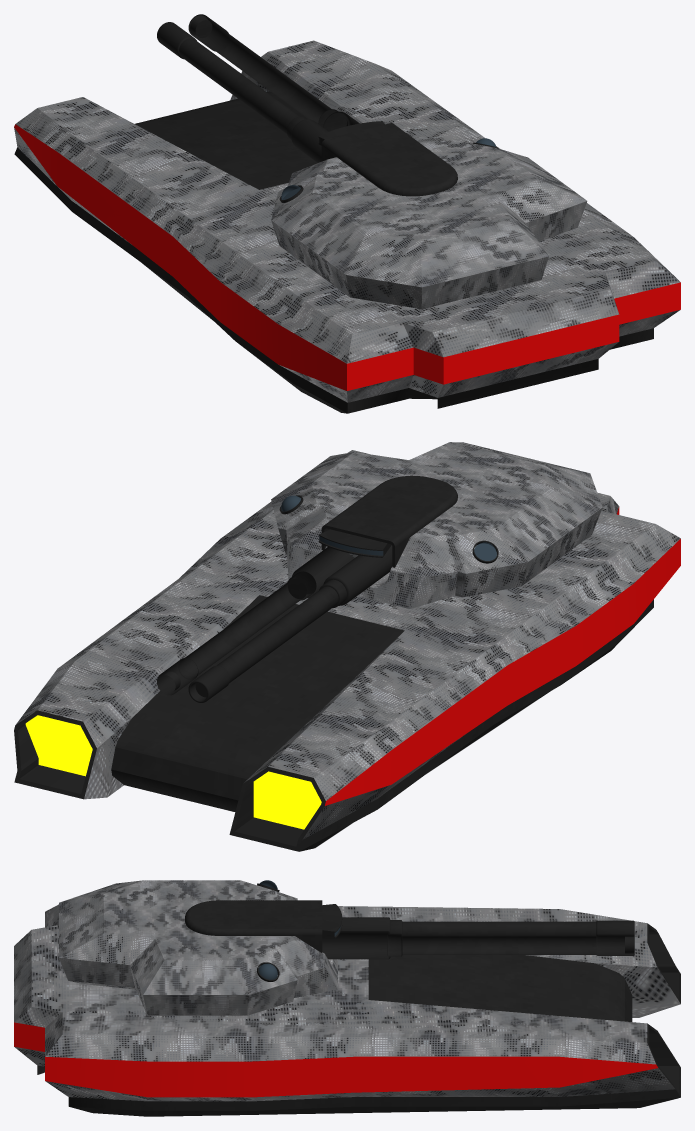
The model's file is Aegis.glb.
3 views of the same model, one above another, from view 1: azimuth 30°, elevation 25°; view 2: azimuth 150°, elevation 25°; view 3: azimuth 270°, elevation 25° (orthographic). The views are drawn at different scales.
Visible parts, largest first — view 1: Body, Turret, Barrel; view 2: Body, Turret, Barrel; view 3: Body, Turret, Barrel.
Boxes of the visible parts, x1,y1,x2,y2 form: Body: (14, 40, 680, 413); Turret: (271, 121, 587, 309); Barrel: (157, 14, 359, 162); Body: (14, 450, 680, 851); Turret: (271, 442, 602, 608); Barrel: (157, 545, 392, 702); Body: (14, 904, 680, 1116); Turret: (59, 880, 342, 1015); Barrel: (322, 917, 634, 959).
Bounding box in the file's own units: 0.959 × 0.3901 × 1.75.
Materials: 6 (2 with a texture image).
